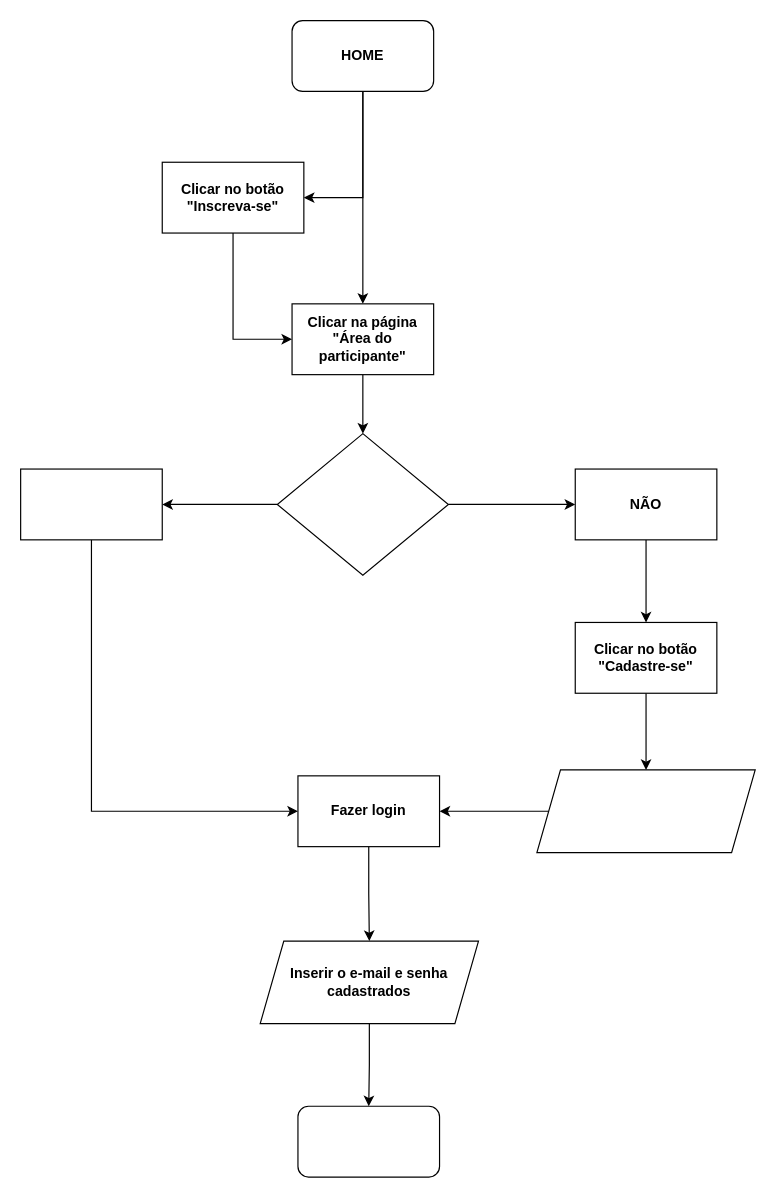
The diagram is 776 pixels wide and 1198 high, and some of its shapes have lost their labels. Each missing label, with the centre of its shape:
"Acessar à área do participante" goes at point (368, 1141).
"Já possui conta na SIEEL?" goes at point (362, 503).
"Preencher o formulário com suas informações" goes at point (645, 811).
"SIM" goes at point (90, 504).
